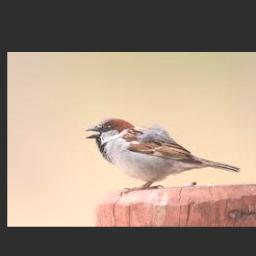Sparrow: (84, 117, 239, 195)
